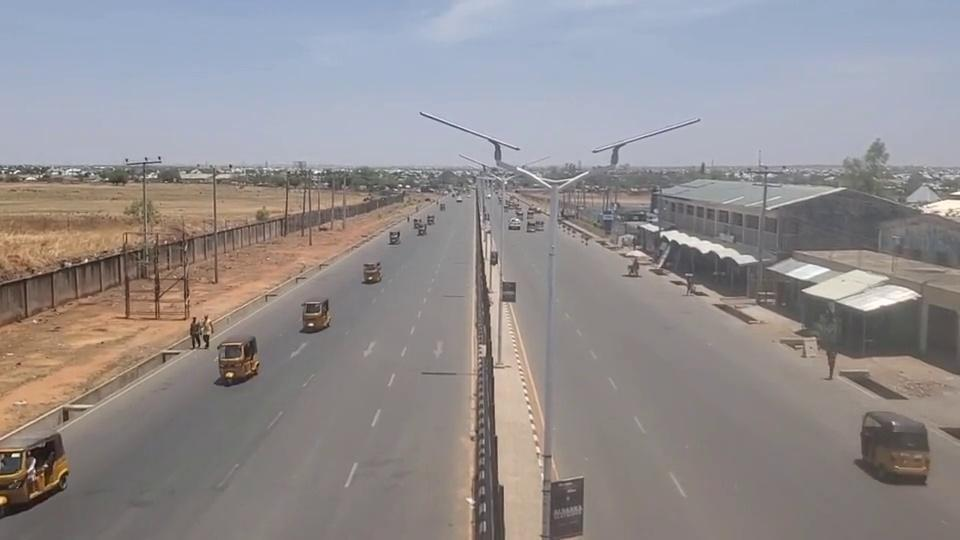keke: (0, 431, 69, 516), (859, 409, 930, 482), (216, 334, 259, 384), (300, 297, 330, 330), (362, 261, 384, 284)
